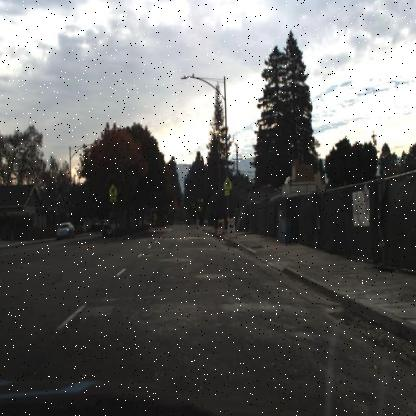car: (54, 220, 74, 238), (56, 222, 76, 239)
